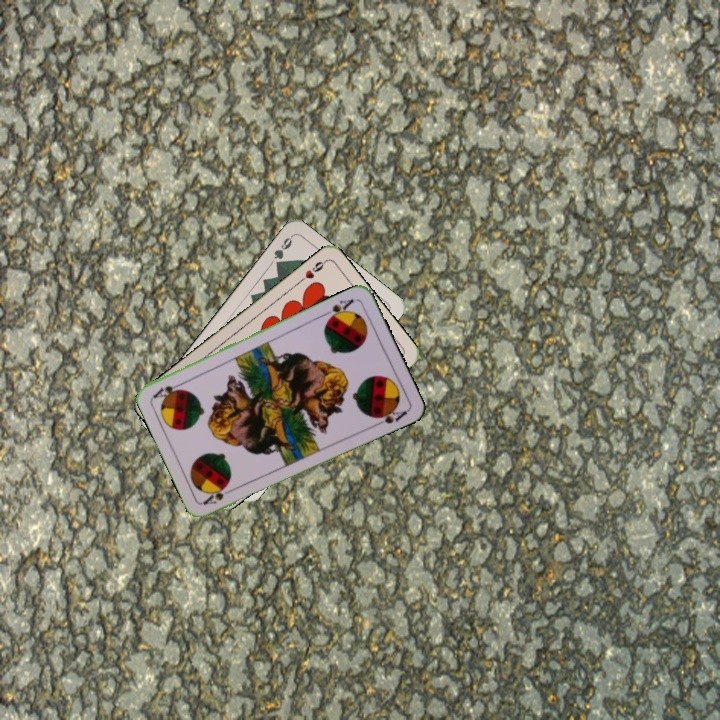G9: (270, 232, 295, 270)
H9: (294, 257, 329, 286)
SA: (320, 295, 356, 324), (199, 482, 238, 508)
